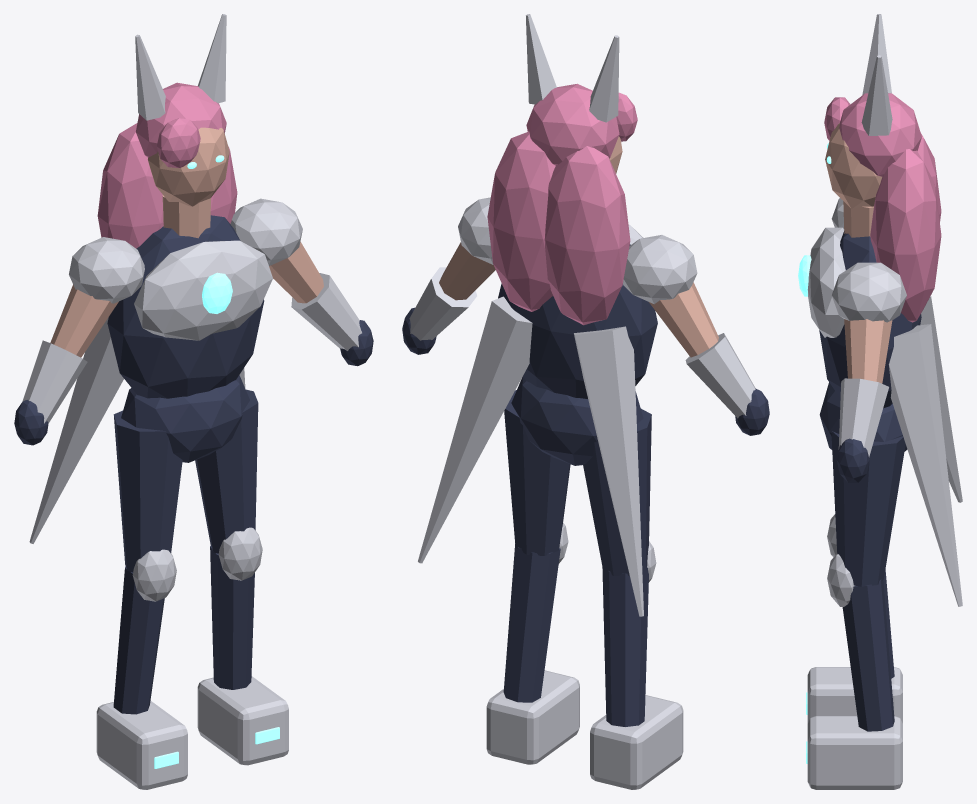
File: SM_Aurora.fbx
3 renders of one model, left to right at view 1: azimuth 30°, elevation 25°; view 2: azimuth 150°, elevation 25°; view 3: azimuth 270°, elevation 25°, orthographic. The views are drawn at different scales.
Visible parts, largest first — view 1: SM_Aurora; view 2: SM_Aurora; view 3: SM_Aurora.
Boxes of the visible parts, box(x1,y1,x2,y2) form: SM_Aurora: box(14, 14, 373, 789); SM_Aurora: box(402, 14, 769, 789); SM_Aurora: box(798, 14, 962, 789).
Size of the model in its own units: 98.18 by 39.76 by 192.
